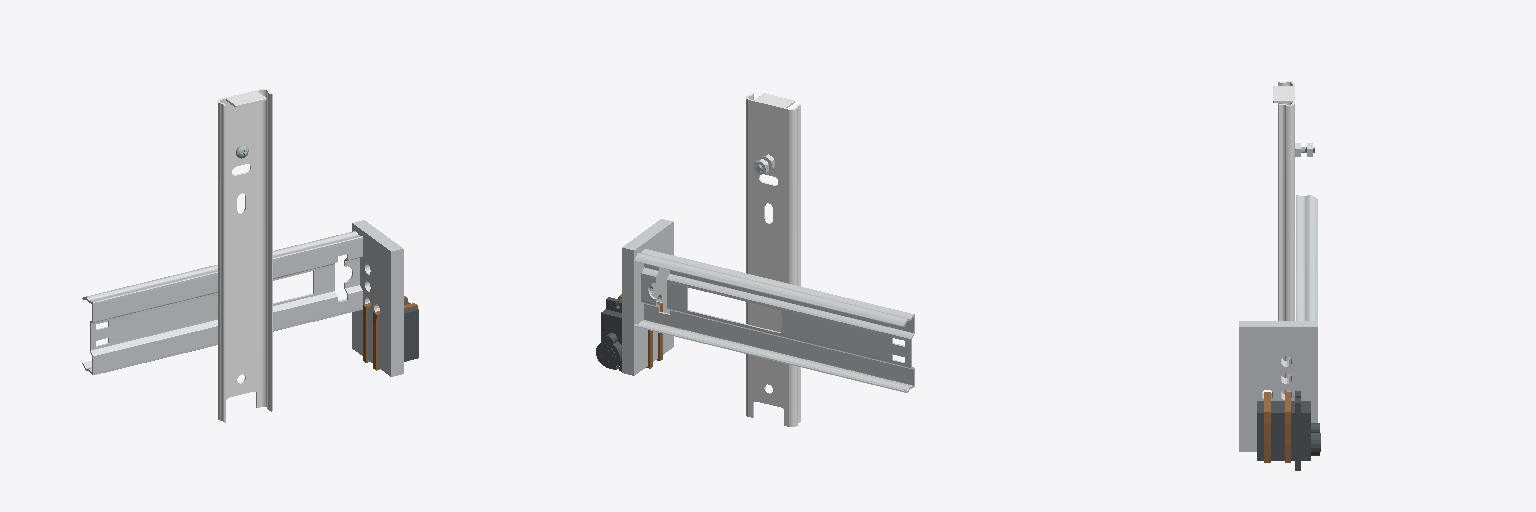
The model's file is tinker.obj.
The picture shows the model from 3 angles: view 1: azimuth 30°, elevation 25°; view 2: azimuth 150°, elevation 25°; view 3: azimuth 270°, elevation 25°; orthographic projection.
Parts seen in each view (by area): view 1: obj_0; view 2: obj_0; view 3: obj_0.
Part boxes in pixels (x1,y1,x2,y2): obj_0: (82,89,418,422); obj_0: (596,93,914,426); obj_0: (1239,81,1320,470).
Size of the model in its own units: 151 by 148 by 34.56.